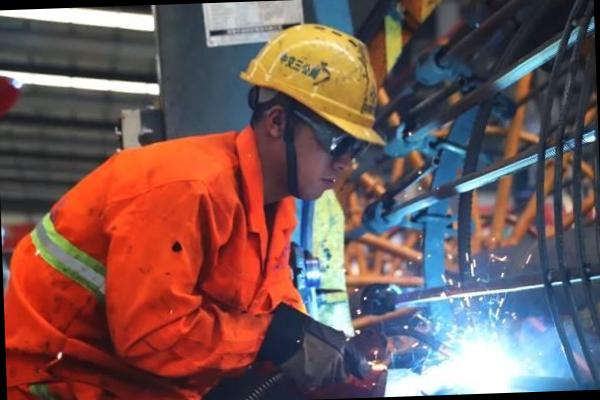Vest: (12, 127, 304, 374)
